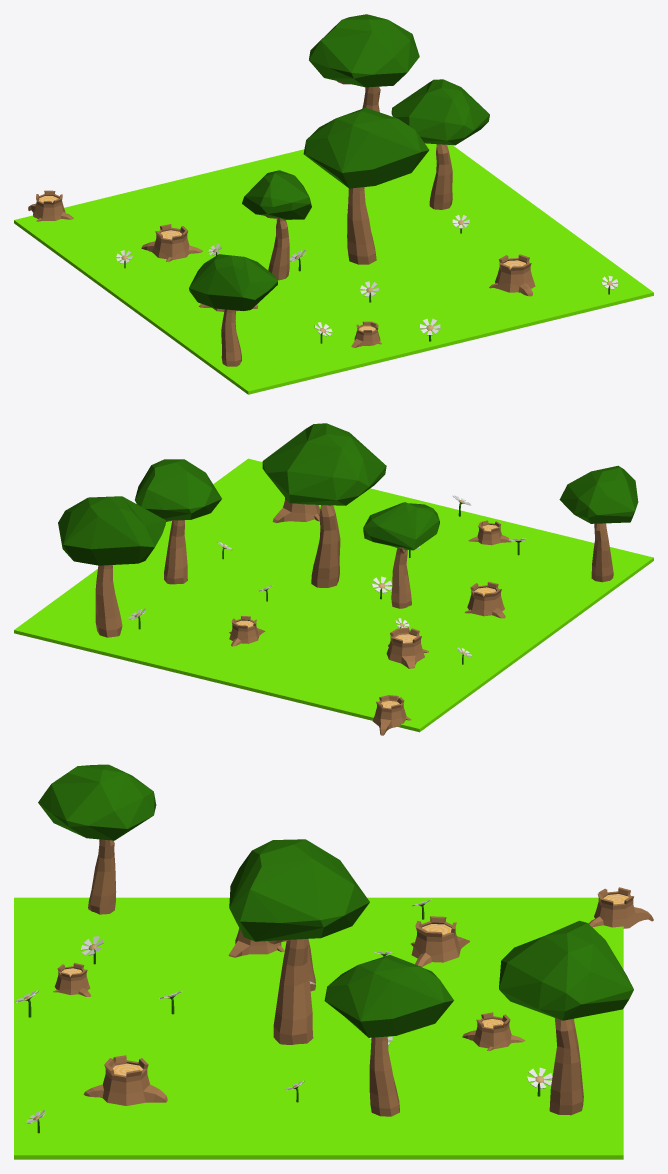
The model's file is Forest_Tile_3.fbx.
3 views of the same model, one above another, from view 1: azimuth 30°, elevation 25°; view 2: azimuth 150°, elevation 25°; view 3: azimuth 270°, elevation 25° (orthographic). The views are drawn at different scales.
Visible parts, largest first — view 1: Plane.002, Plane.005|Tronco 1|Dupli|4, Plane.005|Tronco 1|Dupli|2, Plane.005|Tronco 1|Dupli|1, Plane.005|Tronco 1|Dupli|3, Plane.005|Tronco 2|Dupli|, Circle.003, Plane.005|Circle.003|Dupli|4.1, Plane.005|Circle.003|Dupli|1.1, Plane.005|Circle.003|Dupli|2.1; view 2: Plane.002, Plane.005|Tronco 1|Dupli|4, Plane.005|Tronco 1|Dupli|2, Plane.005|Tronco 1|Dupli|1, Plane.005|Tronco 1|Dupli|3, Plane.005|Tronco 2|Dupli|, Plane.005|Circle.003|Dupli|4.1, Plane.005|Circle.003|Dupli|3.1, Plane.005|Circle.003|Dupli|1.1, Circle.003, Plane.005|Circle.003|Dupli|0.1, Plane.005|Circle.003|Dupli|2.1; view 3: Plane.002, Plane.005|Tronco 1|Dupli|4, Plane.005|Tronco 1|Dupli|2, Plane.005|Tronco 1|Dupli|1, Plane.005|Tronco 1|Dupli|3, Circle.003, Plane.005|Circle.003|Dupli|4.1, Plane.005|Circle.003|Dupli|1.1, Plane.005|Circle.003|Dupli|0.1, Plane.005|Circle.003|Dupli|2.1, Plane.005|Circle.003|Dupli|3.1.
Boxes of the visible parts, bbox=[...] form: Plane.002: bbox=[14, 143, 653, 394]; Plane.005|Tronco 1|Dupli|4: bbox=[303, 107, 429, 264]; Plane.005|Tronco 1|Dupli|2: bbox=[309, 14, 419, 112]; Plane.005|Tronco 1|Dupli|1: bbox=[391, 79, 489, 209]; Plane.005|Tronco 1|Dupli|3: bbox=[189, 254, 277, 366]; Plane.005|Tronco 2|Dupli|: bbox=[242, 170, 311, 280]; Circle.003: bbox=[489, 254, 535, 296]; Plane.005|Circle.003|Dupli|4.1: bbox=[141, 224, 202, 262]; Plane.005|Circle.003|Dupli|1.1: bbox=[28, 190, 73, 221]; Plane.005|Circle.003|Dupli|2.1: bbox=[351, 321, 381, 347]; Plane.002: bbox=[14, 458, 653, 732]; Plane.005|Tronco 1|Dupli|4: bbox=[262, 423, 386, 587]; Plane.005|Tronco 1|Dupli|2: bbox=[58, 496, 166, 637]; Plane.005|Tronco 1|Dupli|1: bbox=[135, 459, 221, 584]; Plane.005|Tronco 1|Dupli|3: bbox=[559, 465, 638, 582]; Plane.005|Tronco 2|Dupli|: bbox=[363, 502, 439, 608]; Plane.005|Circle.003|Dupli|4.1: bbox=[386, 627, 428, 668]; Plane.005|Circle.003|Dupli|3.1: bbox=[464, 581, 505, 618]; Plane.005|Circle.003|Dupli|1.1: bbox=[372, 695, 411, 735]; Circle.003: bbox=[272, 497, 320, 523]; Plane.005|Circle.003|Dupli|0.1: bbox=[229, 616, 265, 646]; Plane.005|Circle.003|Dupli|2.1: bbox=[468, 520, 511, 545]; Plane.002: bbox=[14, 897, 623, 1159]; Plane.005|Tronco 1|Dupli|4: bbox=[229, 839, 369, 1044]; Plane.005|Tronco 1|Dupli|2: bbox=[499, 920, 633, 1115]; Plane.005|Tronco 1|Dupli|1: bbox=[324, 955, 453, 1116]; Plane.005|Tronco 1|Dupli|3: bbox=[38, 764, 156, 914]; Circle.003: bbox=[83, 1055, 167, 1105]; Plane.005|Circle.003|Dupli|4.1: bbox=[411, 916, 469, 966]; Plane.005|Circle.003|Dupli|1.1: bbox=[588, 887, 653, 928]; Plane.005|Circle.003|Dupli|0.1: bbox=[462, 1012, 525, 1051]; Plane.005|Circle.003|Dupli|2.1: bbox=[53, 962, 91, 996]; Plane.005|Circle.003|Dupli|3.1: bbox=[228, 928, 284, 957].
Size of the model in its own units: 683 by 682 by 236.
